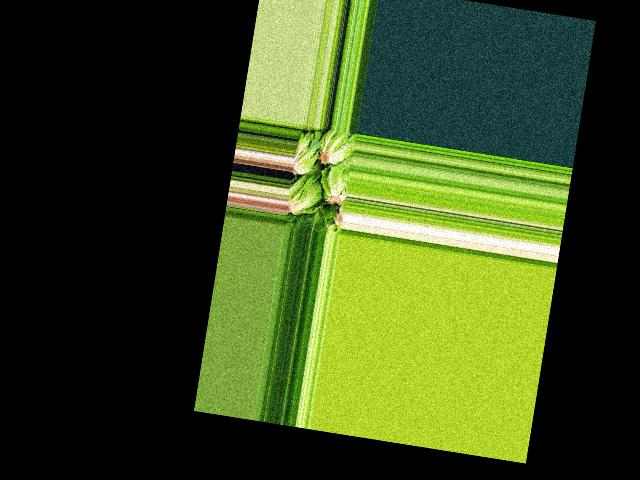lettuce: (302, 206, 330, 234)
